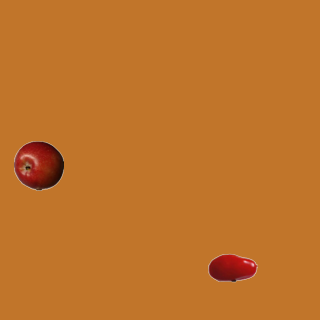Apple Braeburn: (13, 140, 63, 190)
Tomato 2: (207, 242, 257, 292)
